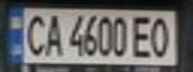0: (96, 12, 115, 57), (112, 12, 130, 57)
4: (63, 11, 84, 56)
6: (81, 11, 100, 57)
A: (42, 11, 66, 57)
C: (21, 10, 51, 57)
E: (130, 12, 157, 60)
O: (148, 14, 175, 58)
